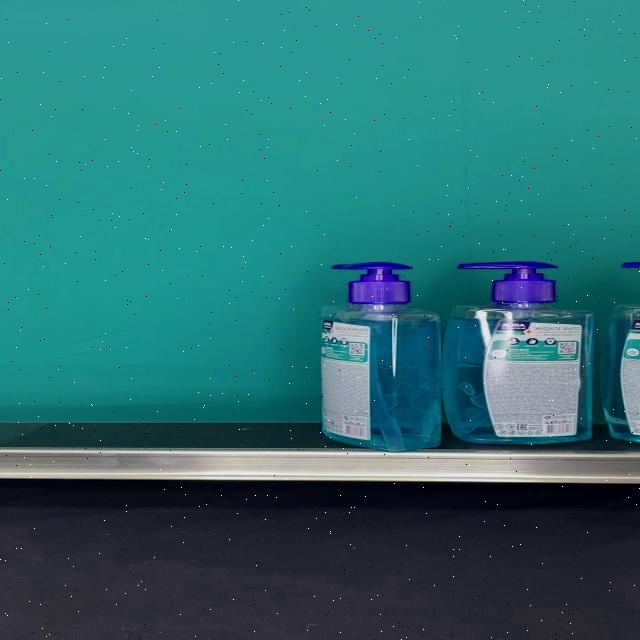Bottle: (443, 260, 593, 444), (319, 262, 442, 451)
Cap: (458, 261, 558, 302), (332, 262, 413, 304)
